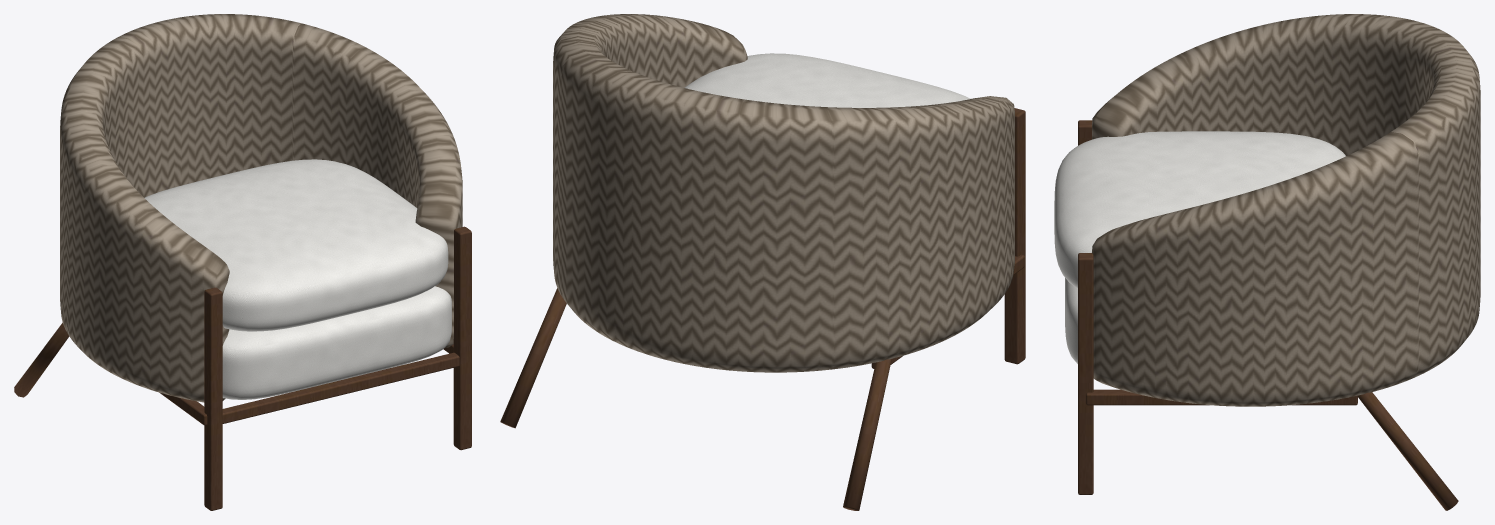
The model's file is oslo-sofa-set--arm.glb.
3 renders of one model, left to right at view 1: azimuth 30°, elevation 25°; view 2: azimuth 150°, elevation 25°; view 3: azimuth 270°, elevation 25°, orthographic. The views are drawn at different scales.
Parts seen in each view (by area): view 1: shell, seat, seatbase, post-1, post1, railfront, back-1, rail-1; view 2: shell, seat, post-1, back-1, back1; view 3: shell, seat, post1, back1, rail1, seatbase.
Part boxes in pixels (<box>): shell: <box>60,14,462,402</box>; seat: <box>144,159,448,331</box>; seatbase: <box>222,286,451,399</box>; post-1: <box>204,287,222,510</box>; post1: <box>453,226,471,450</box>; railfront: <box>222,352,459,423</box>; back-1: <box>14,322,69,397</box>; rail-1: <box>159,392,207,425</box>; shell: <box>553,14,1014,372</box>; seat: <box>684,53,970,107</box>; post-1: <box>1004,108,1025,364</box>; back-1: <box>843,359,891,510</box>; back1: <box>500,288,566,428</box>; shell: <box>1092,14,1480,406</box>; seat: <box>1054,131,1345,288</box>; post1: <box>1078,253,1093,494</box>; back1: <box>1357,392,1458,510</box>; rail1: <box>1085,389,1357,405</box>; seatbase: <box>1065,278,1077,363</box>.
Size of the model in its own units: 0.8292 by 0.7672 by 0.8146.
3 materials, 3 textured.
